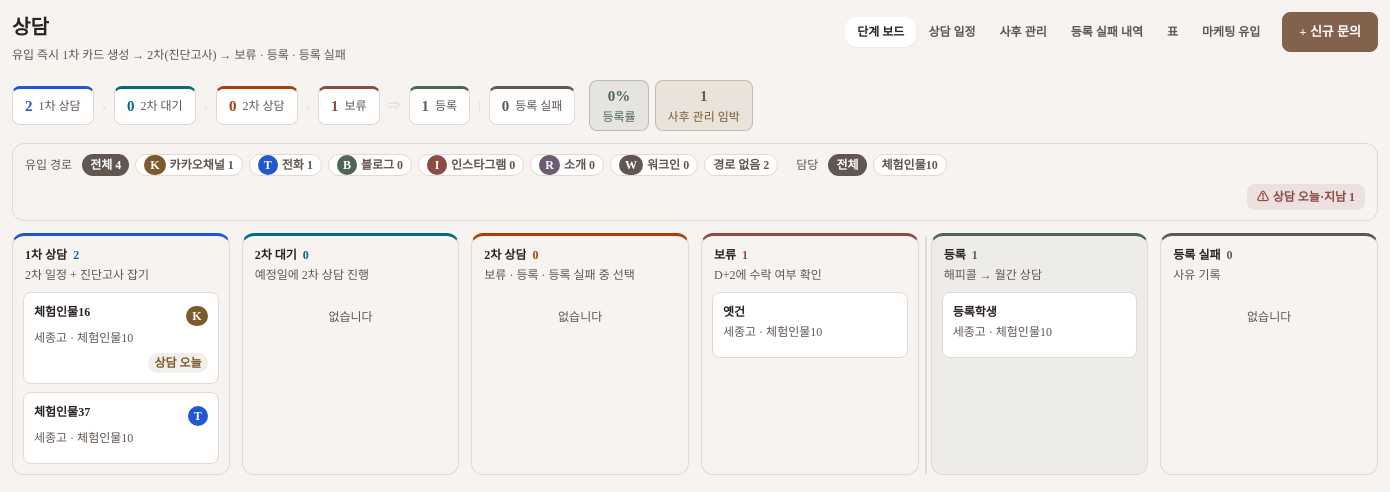
Test case: §23 상담 입구 (C90 · N-44 · N-45) › 유입 경로 칩은 서버 낱말·수 그대로(여섯 + 경로 없음) 서고, 누르면 그 경로의 카드만 남는다 — 담당 칩과 겹친다
The width and height of the screenshot is (1390, 492).
Check: the button "+ 신규 문의" is shown, box [1282,12,1378,52]
Check: the button "K 카카오채널 1" is shown, box [144,154,234,174]
Click the button "경로 없음 2" at [741, 164], box [713,156,769,174]
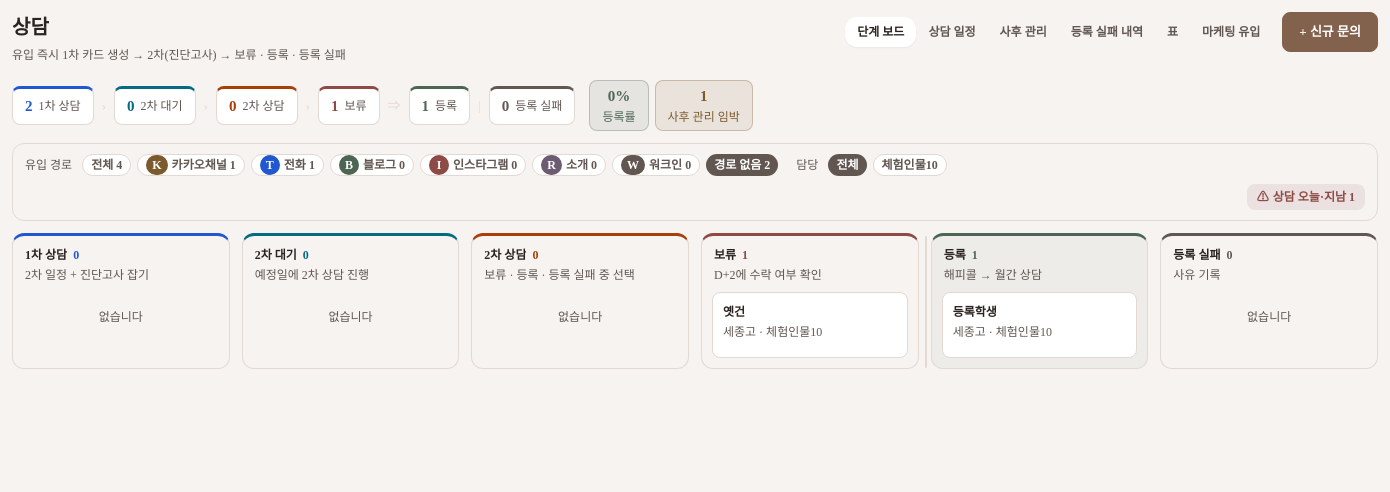
Check: the text "옛건" is shown, box [723,302,745,320]
Check: the button "체험인물16" is gone
Click the button "체험인물10" at [910, 164], box [882,156,938,174]
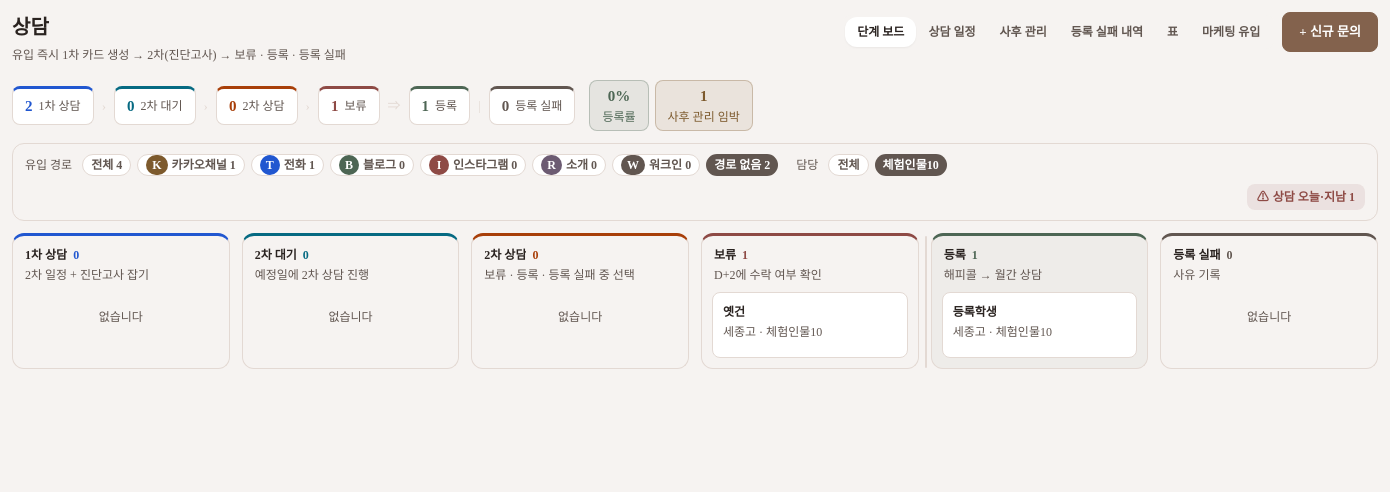
Check: the text "옛건" is shown, box [723,302,745,320]
유입 경로 「전체 N」(수가 있는 쪽)으로 경로 거르기를 푼다
Click the button "전체 4" at [107, 164], box [91,156,122,174]
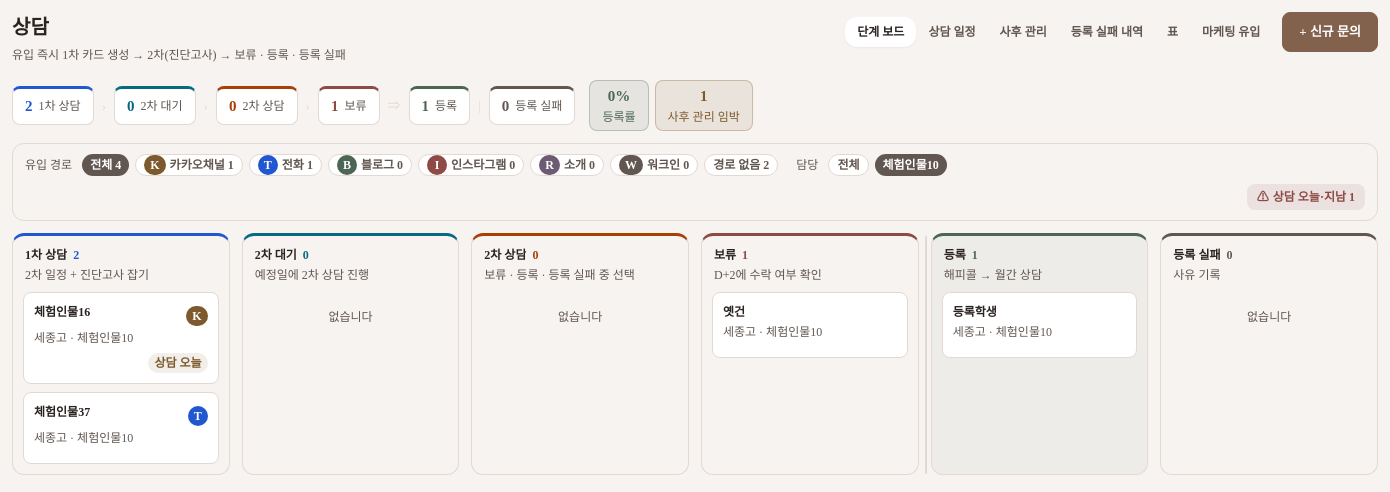
Check: the text "체험인물16" is shown, box [34,302,90,320]
